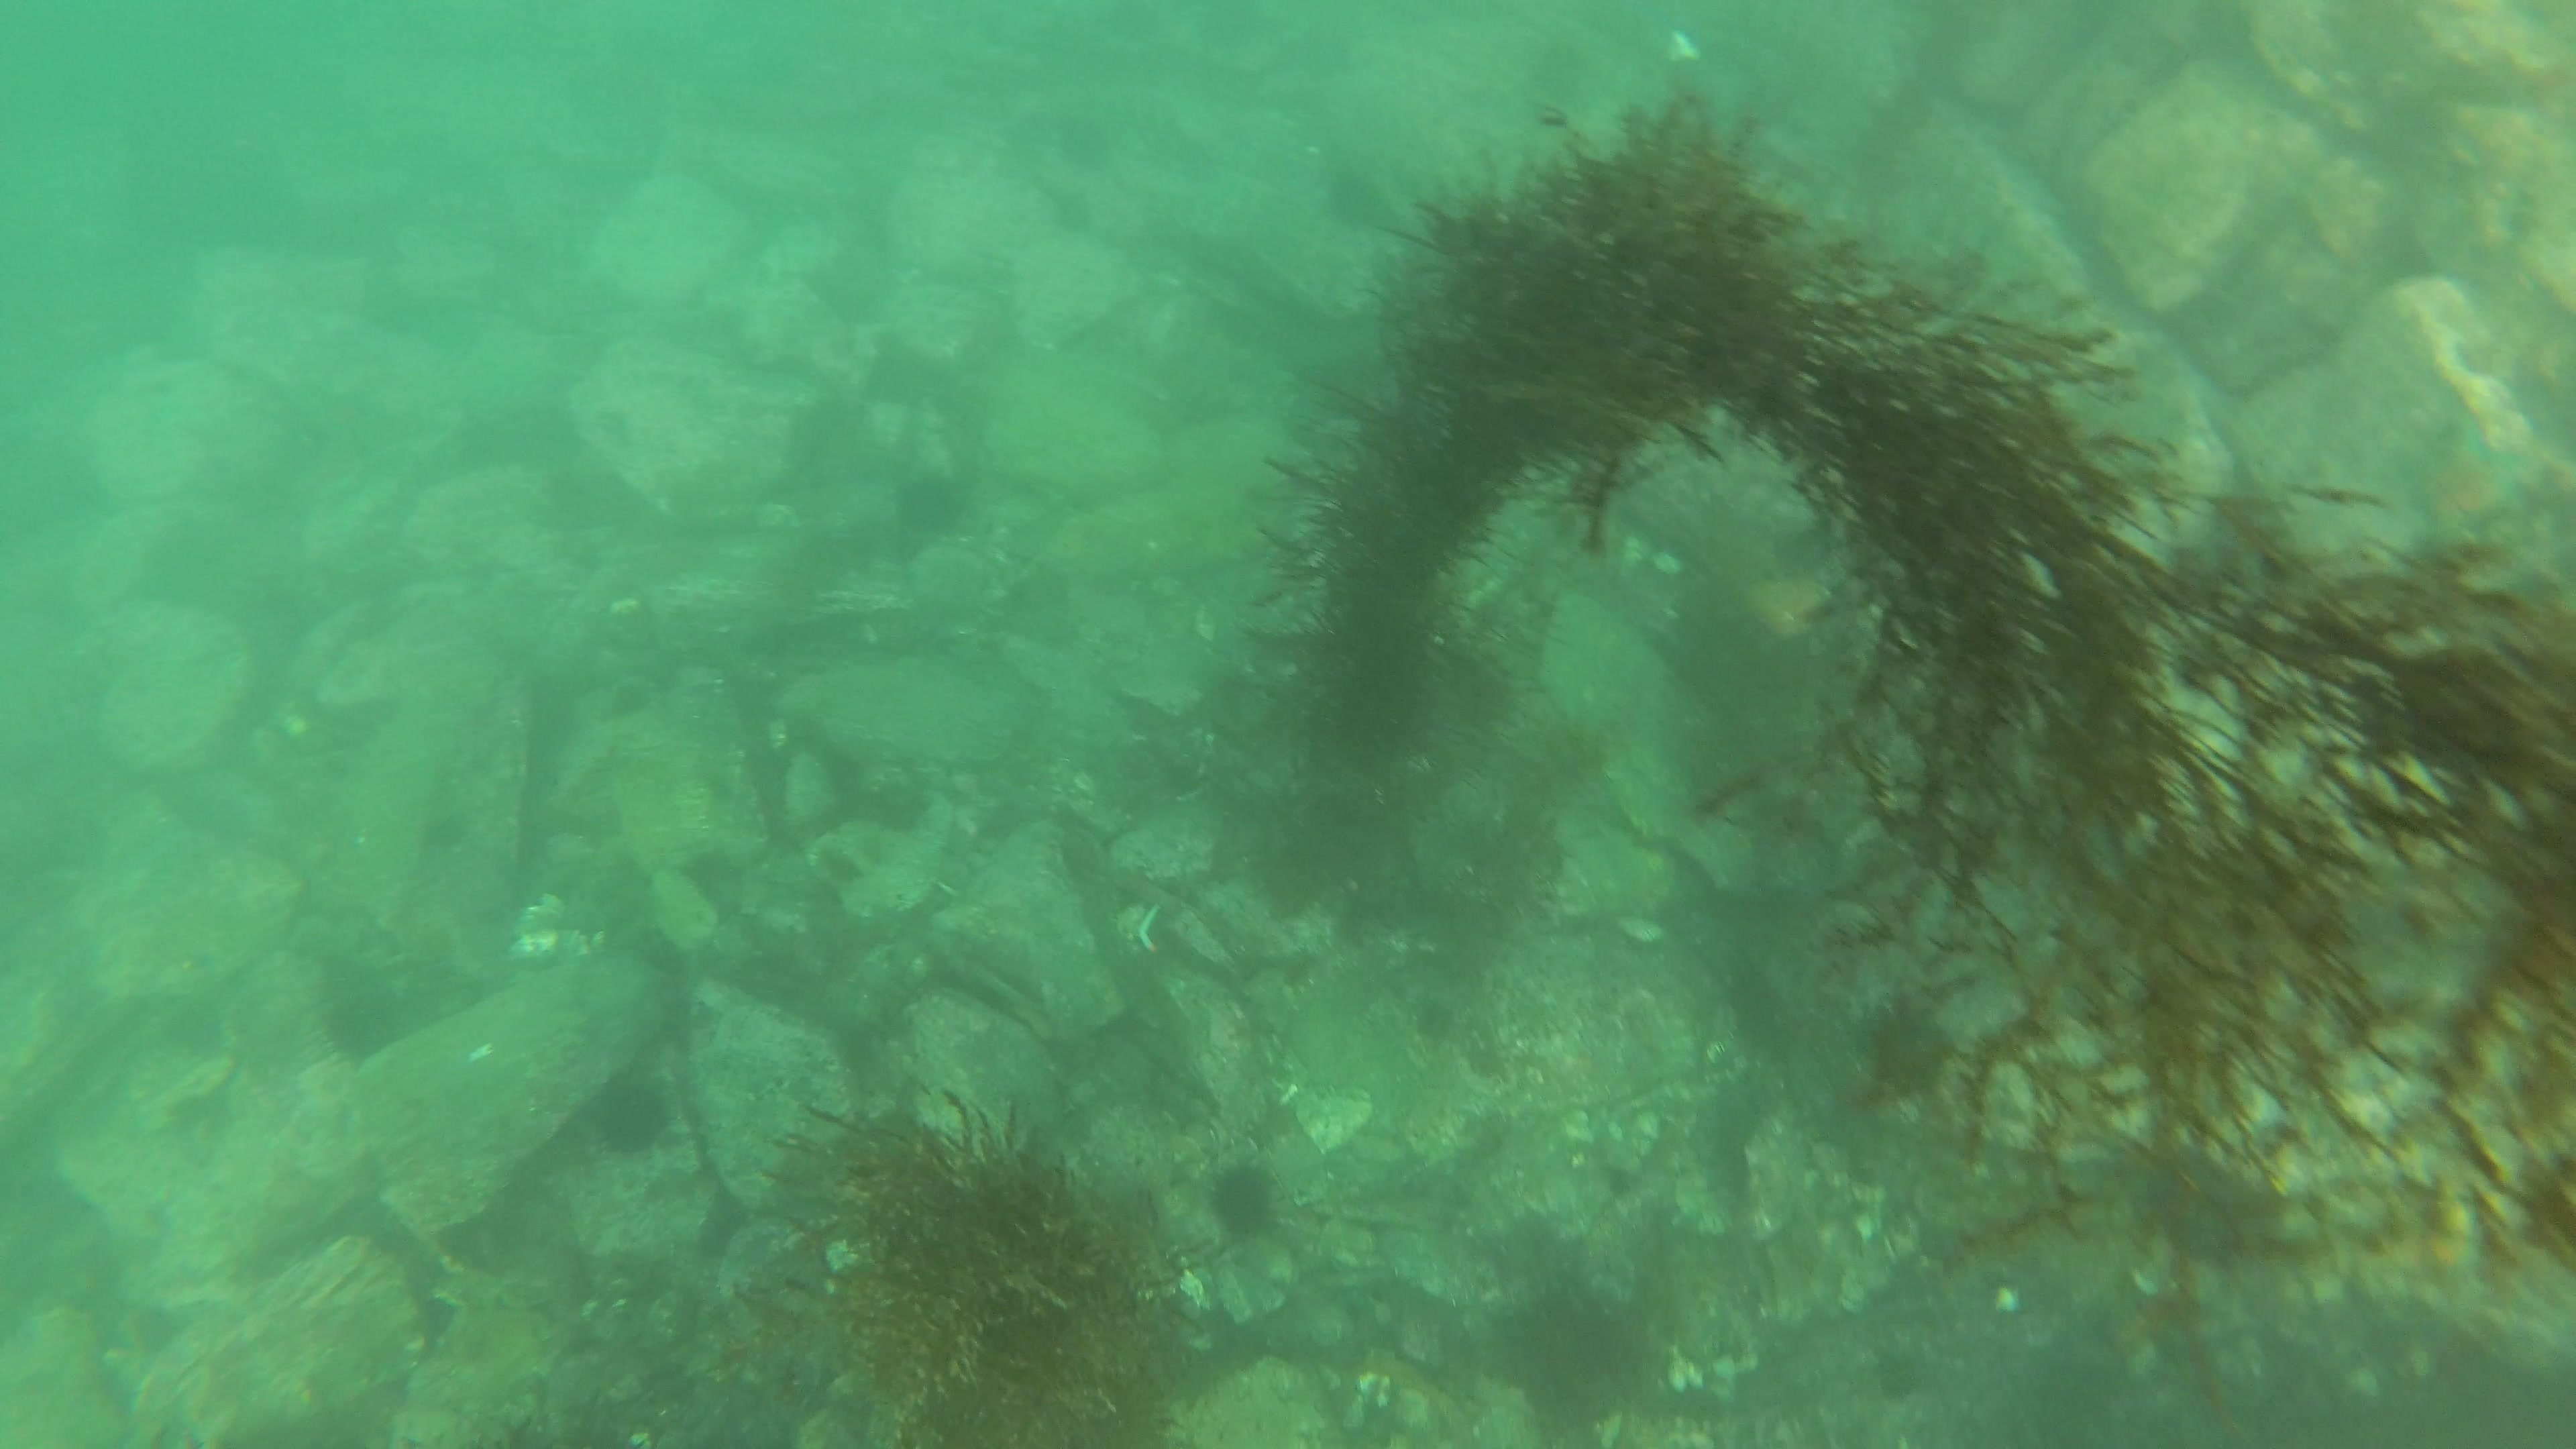echinus: (1488, 1276, 1661, 1428), (582, 1063, 679, 1162), (1201, 1152, 1290, 1249), (890, 467, 985, 543)
starfish: (2388, 418, 2539, 557)
